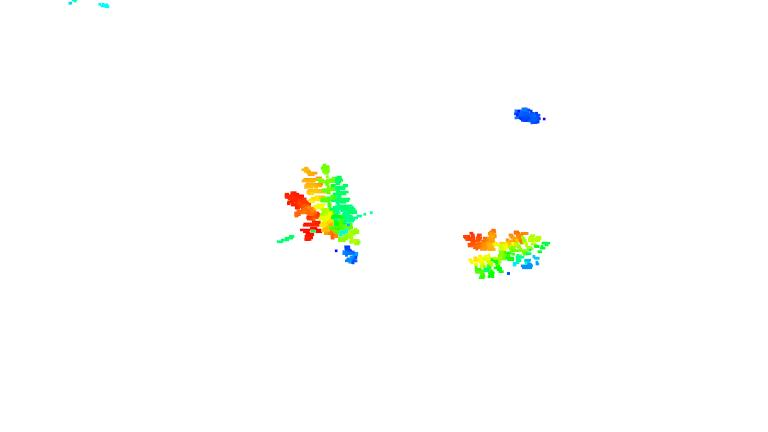chickpea: (285, 159, 364, 262), (456, 227, 547, 278)
